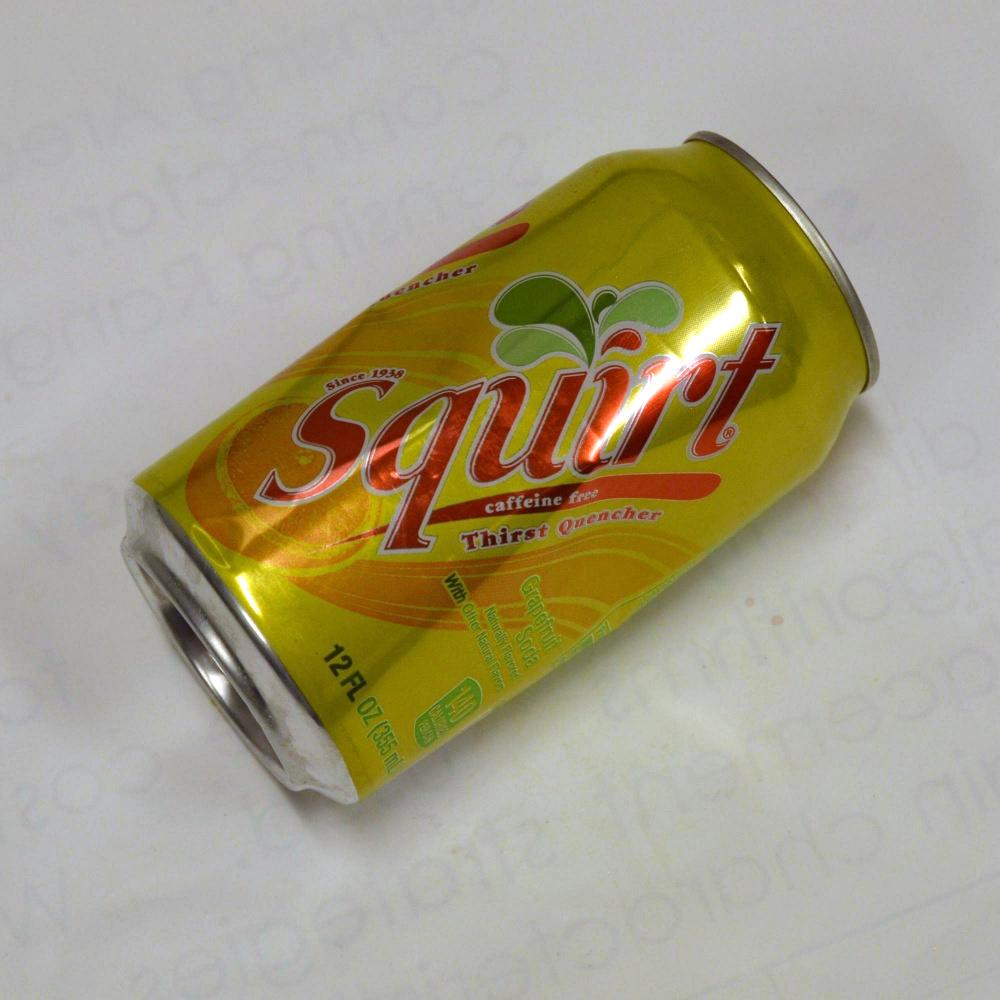Metal: (106, 147, 948, 735)
